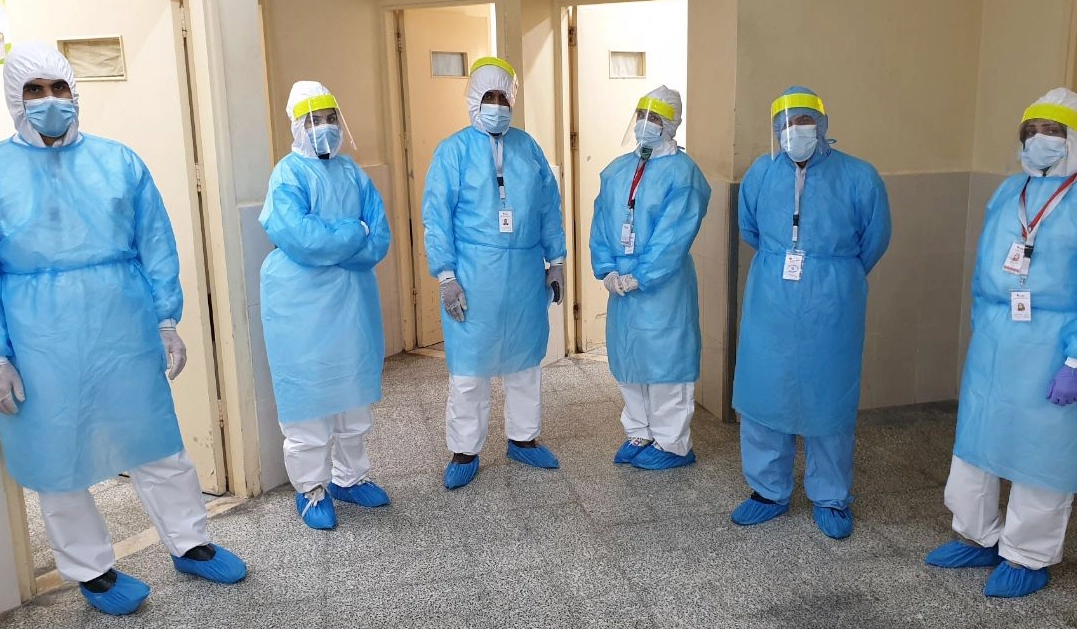Coverall: (1, 46, 187, 567), (724, 88, 895, 487), (422, 57, 565, 455), (959, 88, 1077, 540), (261, 77, 390, 486), (591, 81, 711, 435)
Gloves: (157, 327, 194, 383), (1044, 361, 1077, 408), (1, 357, 24, 423), (437, 281, 471, 323), (544, 264, 568, 301), (606, 268, 629, 296)
with_mask: (23, 81, 78, 141), (1022, 123, 1067, 170), (780, 120, 819, 163), (308, 115, 342, 156), (481, 92, 509, 134), (635, 113, 661, 151)
